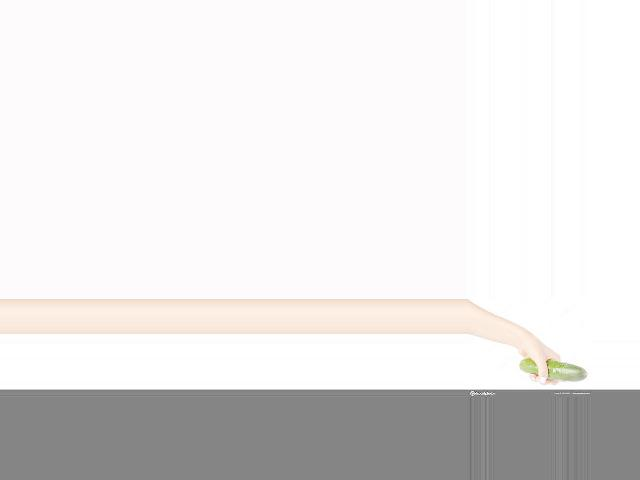cucumber: (519, 358, 588, 382)
